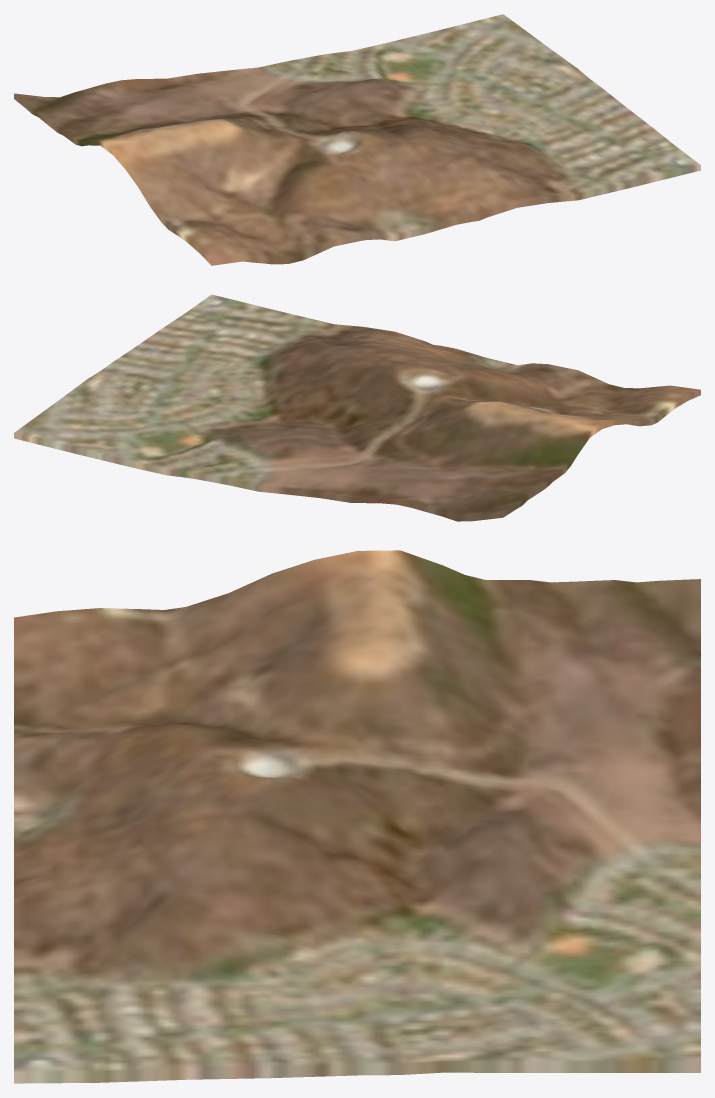
The model's file is terrain_r1_c4_lod2.glb.
The picture shows the model from 3 angles, top to bottom: view 1: azimuth 30°, elevation 25°; view 2: azimuth 150°, elevation 25°; view 3: azimuth 270°, elevation 25°; orthographic projection. The views are drawn at different scales.
Parts seen in each view (by area): view 1: terrain_r1_c4_lod2; view 2: terrain_r1_c4_lod2; view 3: terrain_r1_c4_lod2.
Boxes of the visible parts, x1,y1,x2,y2 form: terrain_r1_c4_lod2: [14, 14, 700, 265]; terrain_r1_c4_lod2: [14, 294, 700, 521]; terrain_r1_c4_lod2: [14, 550, 700, 1083].
Size of the model in its own units: 1125 by 151 by 787.
Materials: 1 (1 with a texture image).
